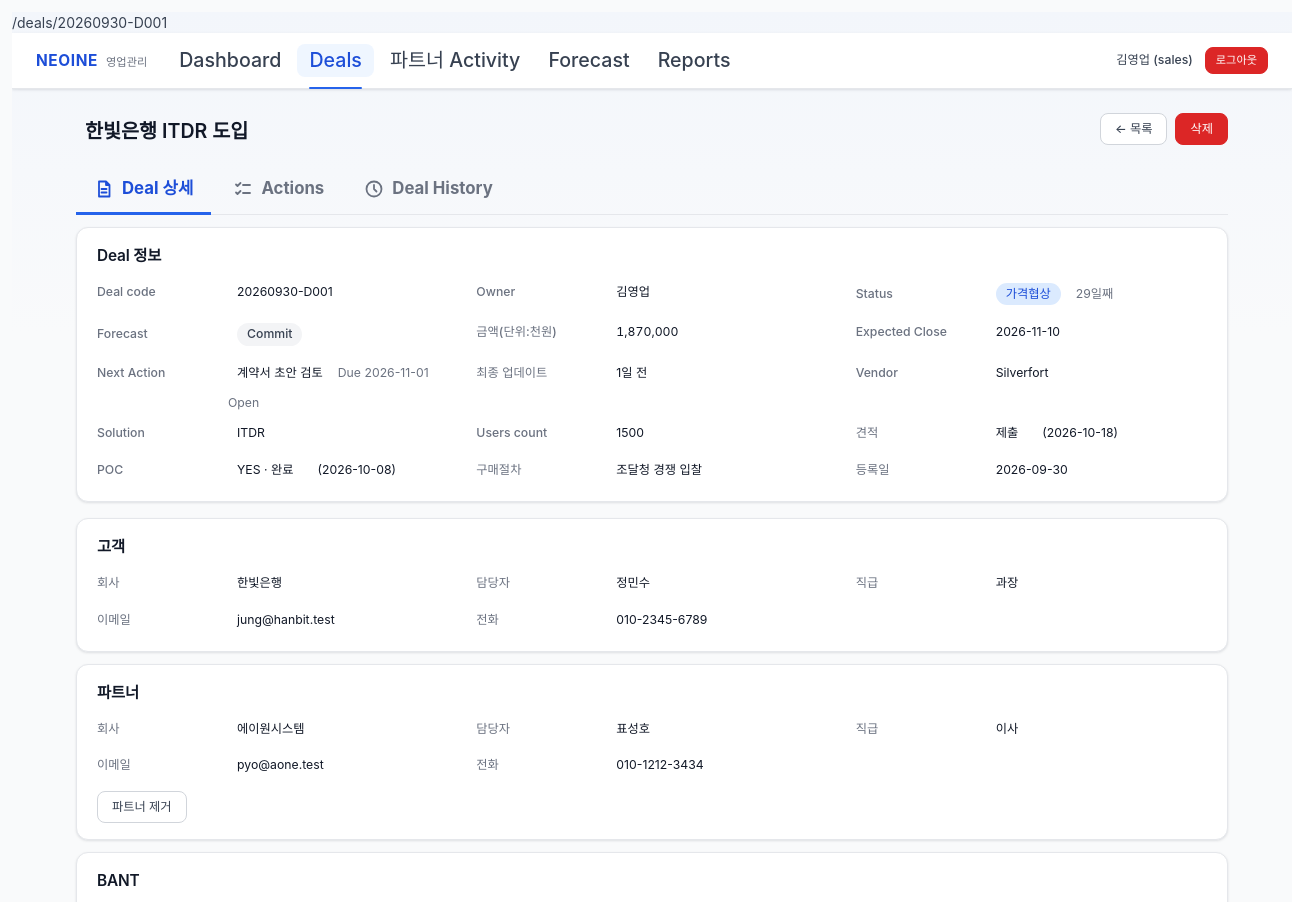
Test: 고객사 인라인 편집 (회사명 pulldown + 자동완성) › opens the company list on click and filters it by partial, case-insensitive text
Expected: the heading "한빛은행 ITDR 도입" is shown, [76,113,257,150]
Step 1. Click the button with aria-label "고객 회사명 수정" → click(260, 583), box [228,568,291,598]
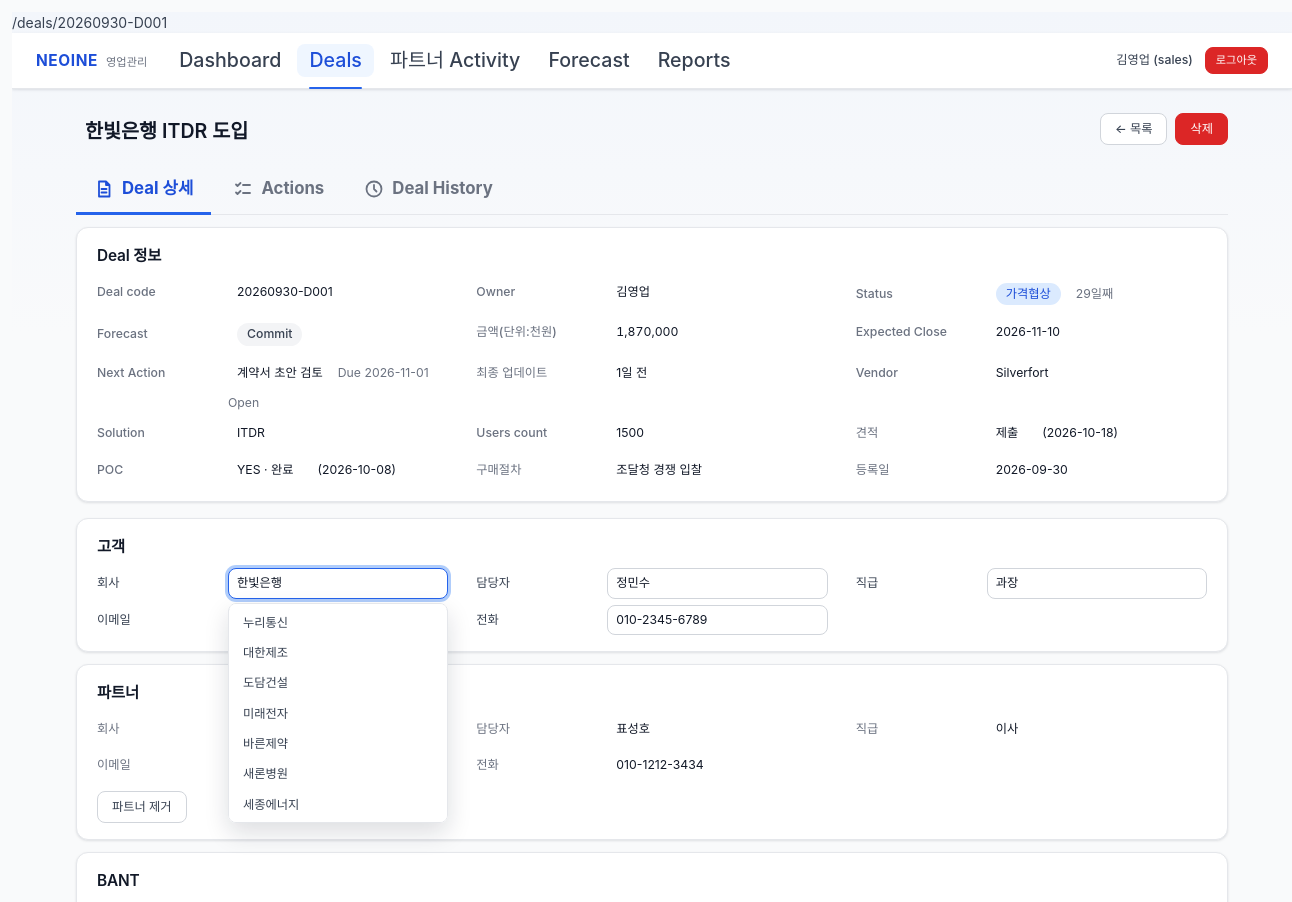
Expected: the option does not show "에이원시스템"
Step 2. Replace the text in the dropdown named "고객 회사명" with "하" → (338, 583), box [228,568,448,598]
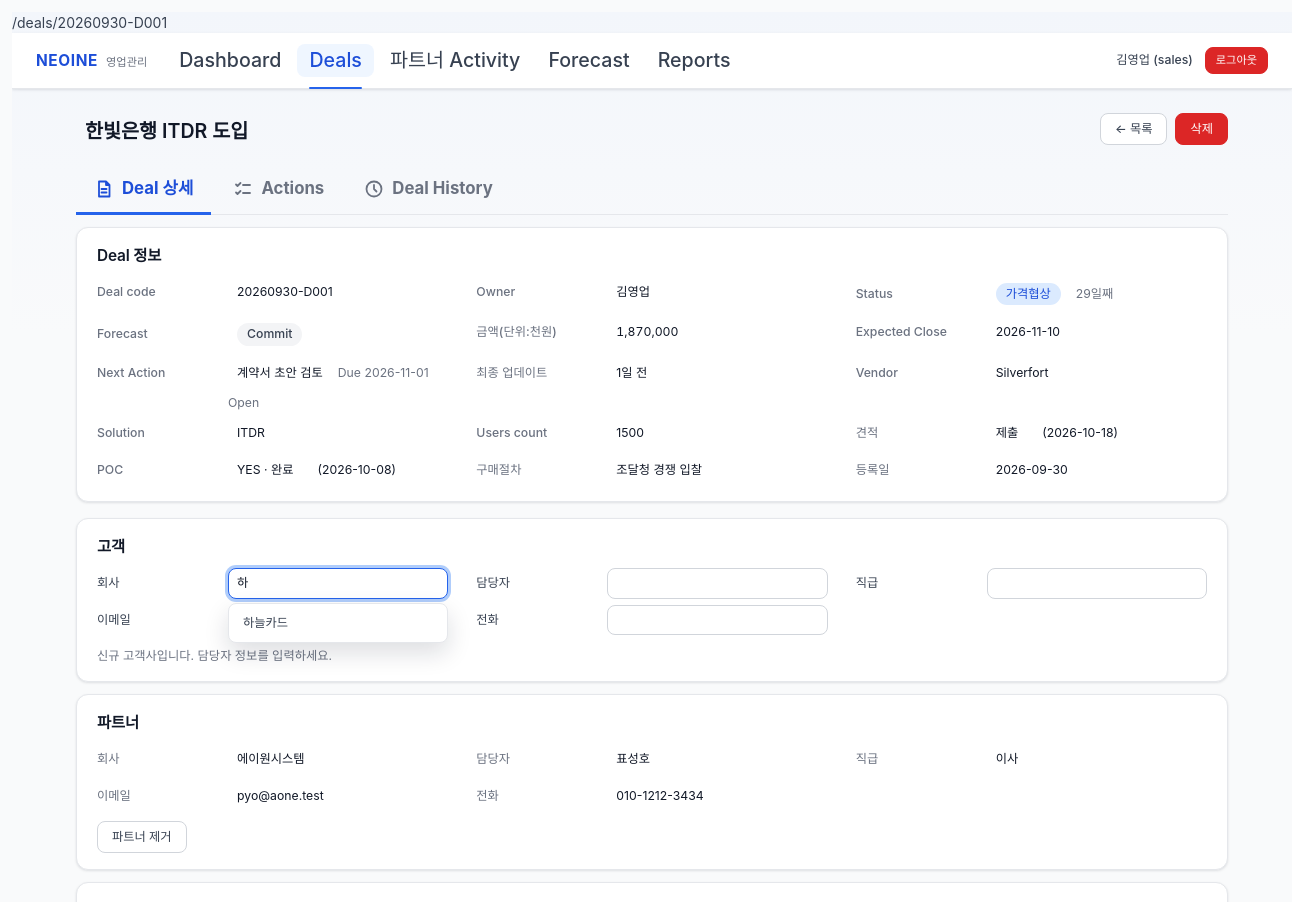
Result: the options read "하늘카드", in this order at [243,614,288,630]
Step 3. Replace the text in the dropdown named "고객 회사명" with "aCM" → (338, 583), box [228,568,448,598]
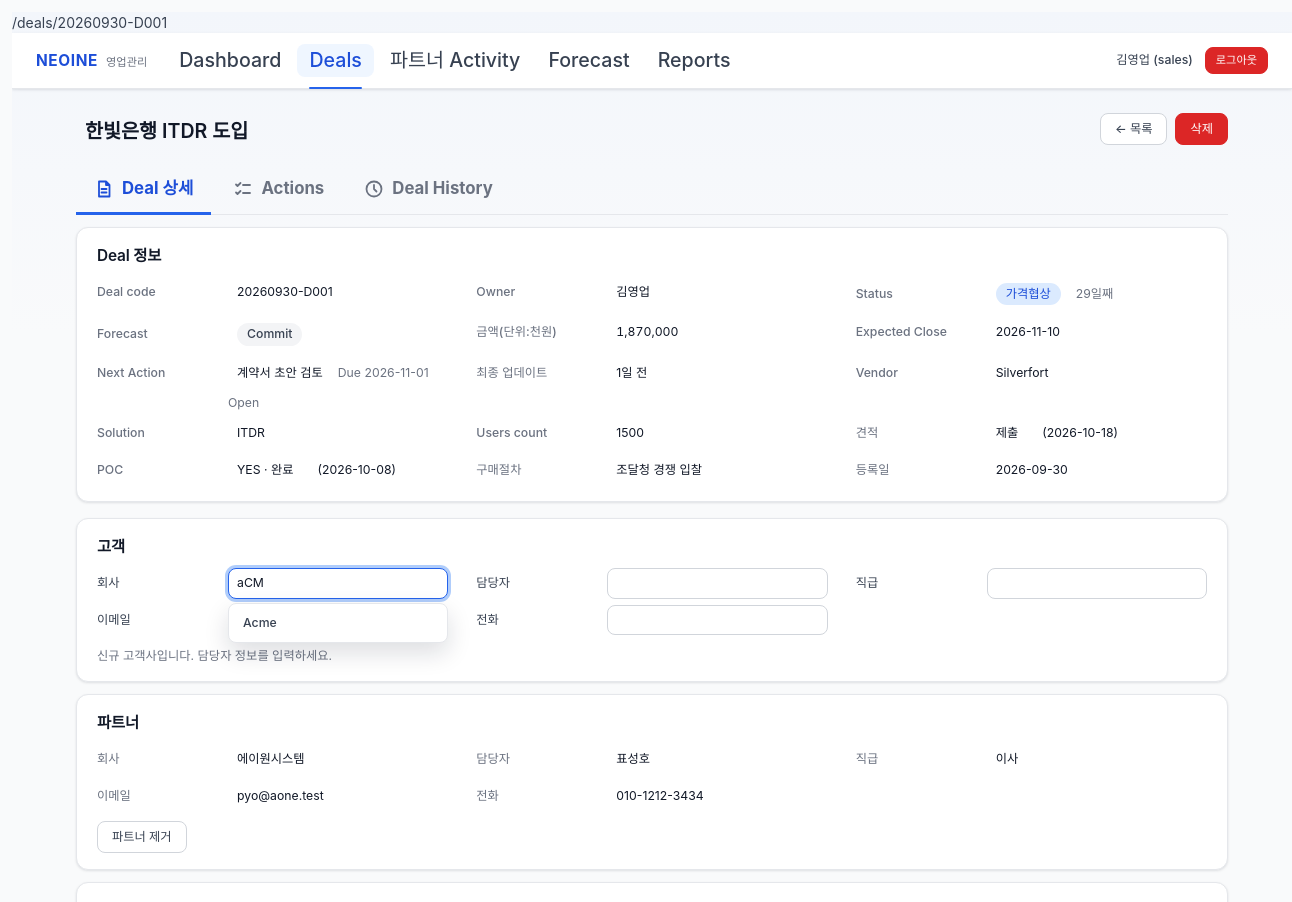
Result: the options read "Acme", in this order at [243,614,277,630]
